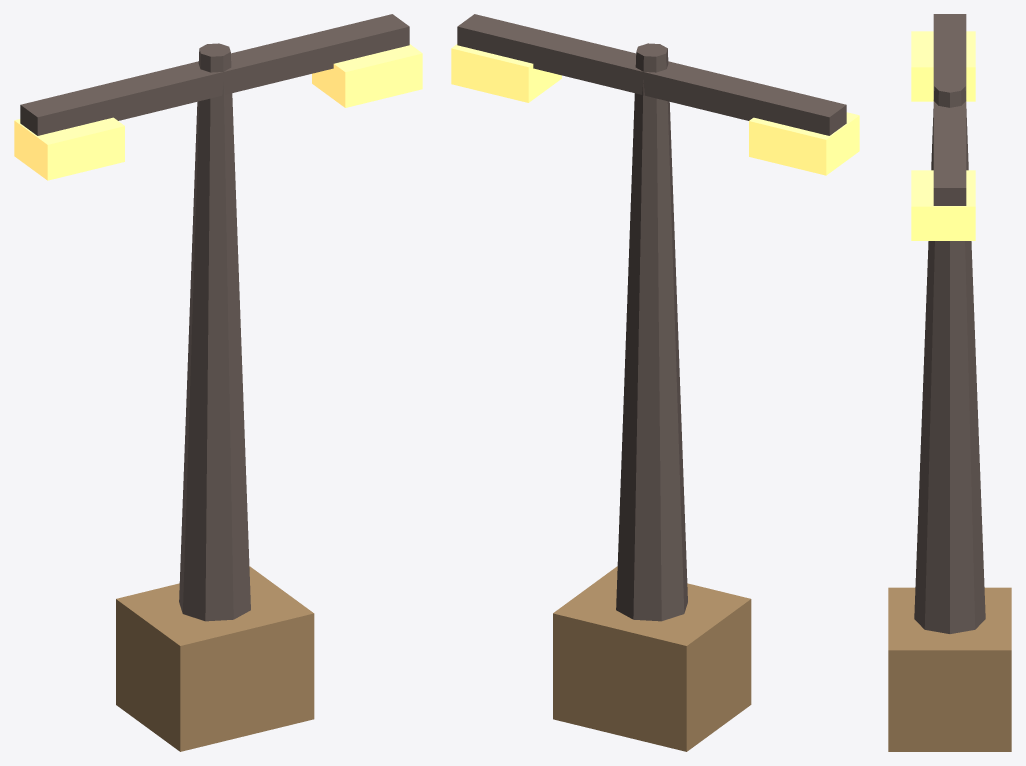
The model's file is survey-mast.glb.
3 views of the same model, side by side, from view 1: azimuth 30°, elevation 25°; view 2: azimuth 150°, elevation 25°; view 3: azimuth 270°, elevation 25° (orthographic). The views are drawn at different scales.
Parts seen in each view (by area): view 1: survey-mast; view 2: survey-mast; view 3: survey-mast.
Boxes of the visible parts, x1=… form: survey-mast: x1=14, y1=14, x2=422, y2=751; survey-mast: x1=451, y1=14, x2=859, y2=751; survey-mast: x1=888, y1=14, x2=1011, y2=751.
Size of the model in its own units: 2.52 by 4.25 by 0.75.
